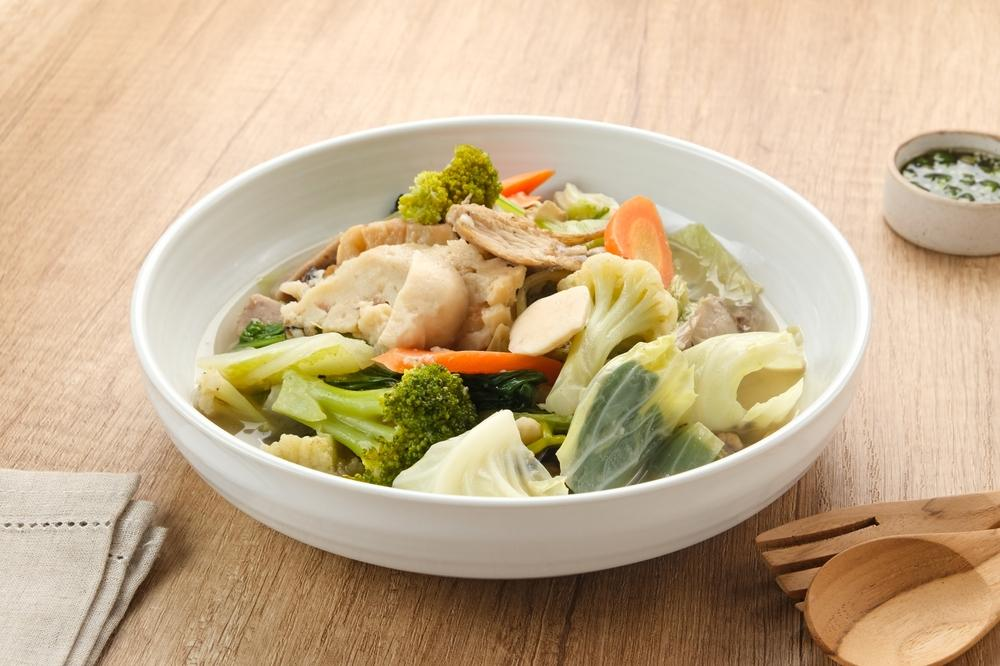buah_sayur_lainnya: (330, 394, 431, 452)
buah_sayur_vitA: (623, 200, 657, 254)
